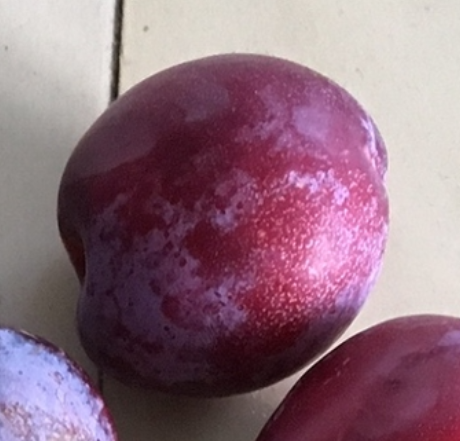plum_A: (56, 53, 390, 398)
